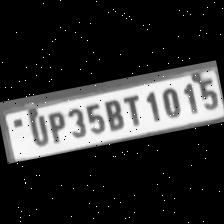0: (155, 84, 183, 120)
1: (178, 80, 201, 116), (140, 89, 162, 124)
3: (63, 104, 88, 140)
5: (194, 75, 220, 112), (82, 100, 106, 136)
B: (100, 96, 127, 132)
P: (44, 109, 70, 145)
T: (120, 92, 146, 128)
U: (24, 111, 50, 148)
